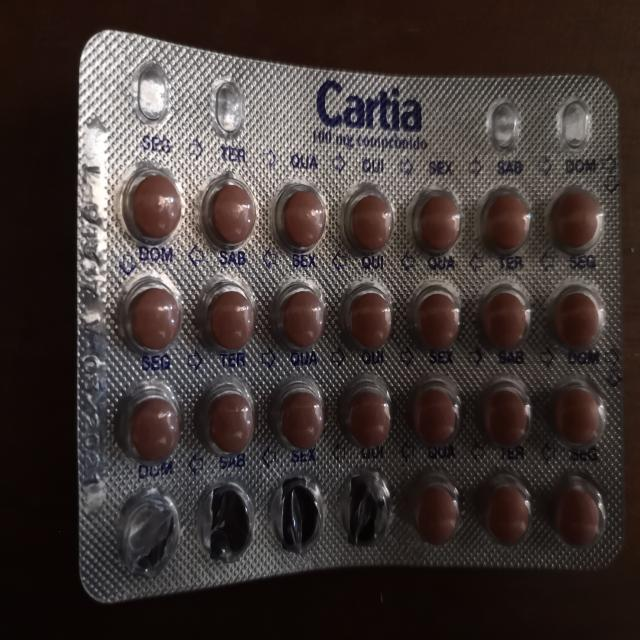Empty: (112, 488, 183, 579), (187, 481, 259, 562), (332, 469, 399, 550), (265, 472, 325, 553)
Pill: (118, 160, 186, 250), (117, 270, 186, 357), (111, 382, 182, 466), (543, 180, 609, 264), (192, 276, 257, 359), (403, 180, 464, 268), (196, 171, 260, 254), (273, 171, 333, 259), (194, 382, 261, 460), (477, 182, 536, 270), (476, 375, 540, 454), (549, 473, 611, 554), (340, 176, 395, 264), (476, 282, 538, 360), (477, 473, 537, 550), (338, 284, 399, 358), (268, 377, 327, 453), (336, 380, 397, 452), (551, 382, 609, 457), (406, 282, 466, 354), (410, 472, 467, 547), (272, 280, 326, 359), (548, 285, 605, 359), (406, 378, 463, 452)
